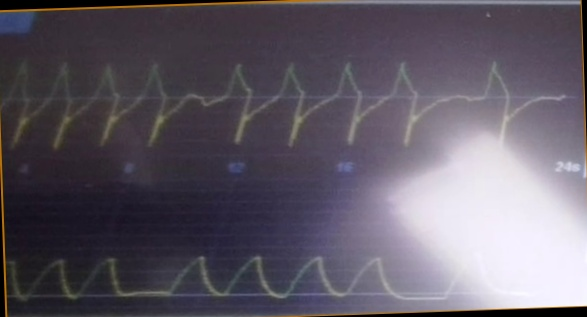Ineffective_effort Flow: (1, 48, 566, 157)
Ineffective_effort Volume: (8, 241, 512, 303)
